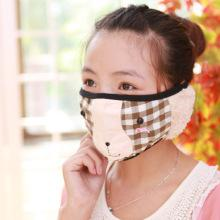OK: (80, 63, 177, 160)
